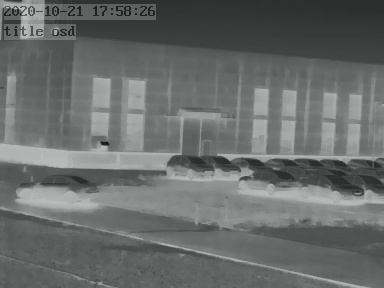vehicle: (4, 171, 94, 204), (299, 173, 361, 203), (238, 169, 304, 191), (164, 153, 212, 179), (349, 173, 383, 200), (206, 153, 242, 177), (232, 154, 270, 172), (347, 155, 381, 171), (261, 155, 297, 170), (315, 155, 348, 170), (296, 155, 326, 170)
